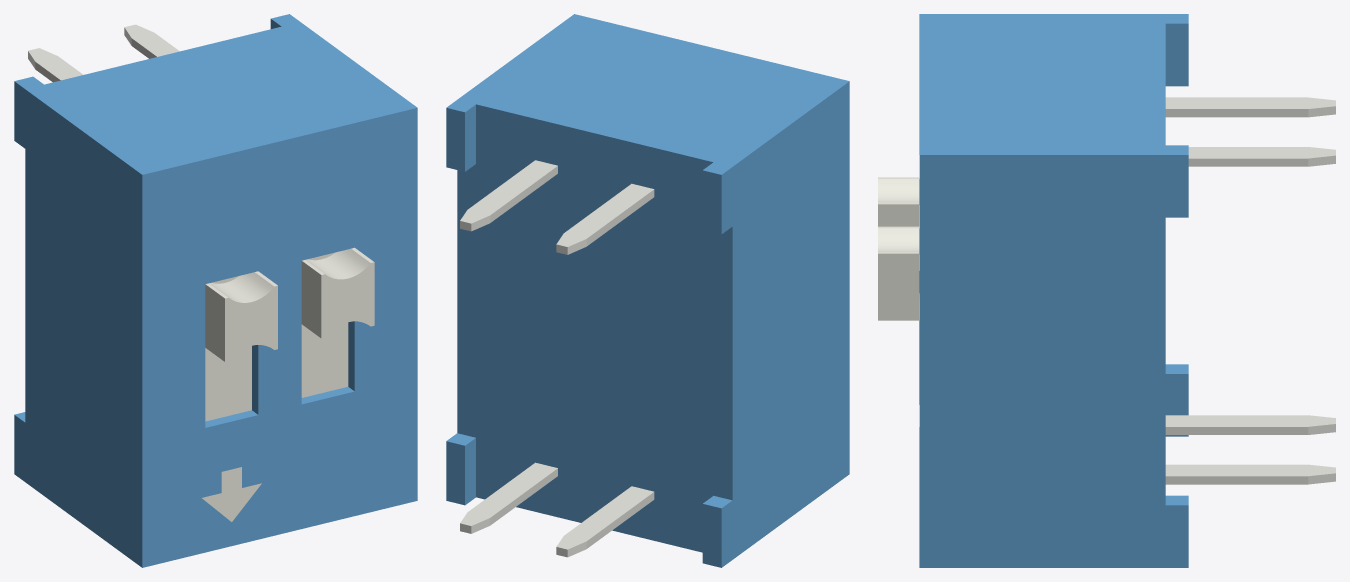
The model's file is SW_DIP_SPSTx02_Slide_9.78x7.26mm_W7.62mm_P2.54mm.glb.
The picture shows the model from 3 angles, left to right: view 1: azimuth 30°, elevation 25°; view 2: azimuth 150°, elevation 25°; view 3: azimuth 270°, elevation 25°; orthographic projection. The views are drawn at different scales.
Visible parts, largest first — view 1: Shape_IndexedFaceSet.031, Shape_IndexedFaceSet.011, Shape_IndexedFaceSet.008, Shape_IndexedFaceSet.063, Shape_IndexedFaceSet.073, Shape_IndexedFaceSet.065, Shape_IndexedFaceSet.070, Shape_IndexedFaceSet.046, Shape_IndexedFaceSet.052, Shape_IndexedFaceSet.061, Shape_IndexedFaceSet.067, Shape_IndexedFaceSet.069 (+2 smaller); view 2: Shape_IndexedFaceSet.003, Shape_IndexedFaceSet.011, Shape_IndexedFaceSet.008, Shape_IndexedFaceSet.017, Shape_IndexedFaceSet.018, Shape_IndexedFaceSet.028, Shape_IndexedFaceSet.024, Shape_IndexedFaceSet.033, Shape_IndexedFaceSet.030, Shape_IndexedFaceSet.001, Shape_IndexedFaceSet.032, Shape_IndexedFaceSet.006 (+5 smaller); view 3: Shape_IndexedFaceSet.005, Shape_IndexedFaceSet.008, Shape_IndexedFaceSet.049, Shape_IndexedFaceSet.024, Shape_IndexedFaceSet.017, Shape_IndexedFaceSet.028, Shape_IndexedFaceSet.018, Shape_IndexedFaceSet.009, Shape_IndexedFaceSet.025, Shape_IndexedFaceSet.014, Shape_IndexedFaceSet.029, Shape_IndexedFaceSet.019 (+4 smaller).
Part boxes in pixels (left/top/right/bottom): Shape_IndexedFaceSet.031: left=142, top=108, right=417, bottom=567; Shape_IndexedFaceSet.011: left=14, top=81, right=142, bottom=567; Shape_IndexedFaceSet.008: left=14, top=14, right=417, bottom=174; Shape_IndexedFaceSet.063: left=301, top=322, right=348, bottom=397; Shape_IndexedFaceSet.073: left=205, top=345, right=251, bottom=421; Shape_IndexedFaceSet.065: left=321, top=262, right=374, bottom=338; Shape_IndexedFaceSet.070: left=225, top=286, right=277, bottom=361; Shape_IndexedFaceSet.046: left=202, top=467, right=261, bottom=521; Shape_IndexedFaceSet.052: left=301, top=261, right=321, bottom=337; Shape_IndexedFaceSet.061: left=205, top=284, right=224, bottom=361; Shape_IndexedFaceSet.067: left=305, top=248, right=370, bottom=279; Shape_IndexedFaceSet.069: left=209, top=272, right=274, bottom=302; Shape_IndexedFaceSet.003: left=457, top=104, right=732, bottom=552; Shape_IndexedFaceSet.011: left=721, top=81, right=849, bottom=567; Shape_IndexedFaceSet.008: left=446, top=14, right=849, bottom=174; Shape_IndexedFaceSet.017: left=556, top=183, right=653, bottom=246; Shape_IndexedFaceSet.018: left=460, top=160, right=557, bottom=223; Shape_IndexedFaceSet.028: left=556, top=486, right=653, bottom=549; Shape_IndexedFaceSet.024: left=460, top=462, right=557, bottom=525; Shape_IndexedFaceSet.033: left=702, top=170, right=721, bottom=234; Shape_IndexedFaceSet.030: left=702, top=504, right=721, bottom=567; Shape_IndexedFaceSet.001: left=446, top=441, right=464, bottom=505; Shape_IndexedFaceSet.032: left=446, top=108, right=464, bottom=171; Shape_IndexedFaceSet.006: left=465, top=104, right=475, bottom=171; Shape_IndexedFaceSet.005: left=919, top=155, right=1188, bottom=567; Shape_IndexedFaceSet.008: left=919, top=14, right=1188, bottom=154; Shape_IndexedFaceSet.049: left=878, top=253, right=919, bottom=320; Shape_IndexedFaceSet.024: left=1165, top=464, right=1335, bottom=476; Shape_IndexedFaceSet.017: left=1165, top=97, right=1335, bottom=108; Shape_IndexedFaceSet.028: left=1165, top=415, right=1335, bottom=426; Shape_IndexedFaceSet.018: left=1188, top=147, right=1335, bottom=158; Shape_IndexedFaceSet.009: left=1165, top=23, right=1188, bottom=86; Shape_IndexedFaceSet.025: left=1165, top=476, right=1308, bottom=484; Shape_IndexedFaceSet.014: left=1165, top=109, right=1308, bottom=117; Shape_IndexedFaceSet.029: left=1165, top=427, right=1308, bottom=434; Shape_IndexedFaceSet.019: left=1188, top=158, right=1308, bottom=166.
Bounding box in the file's own units: 2.86 × 3.9 × 3.92.
